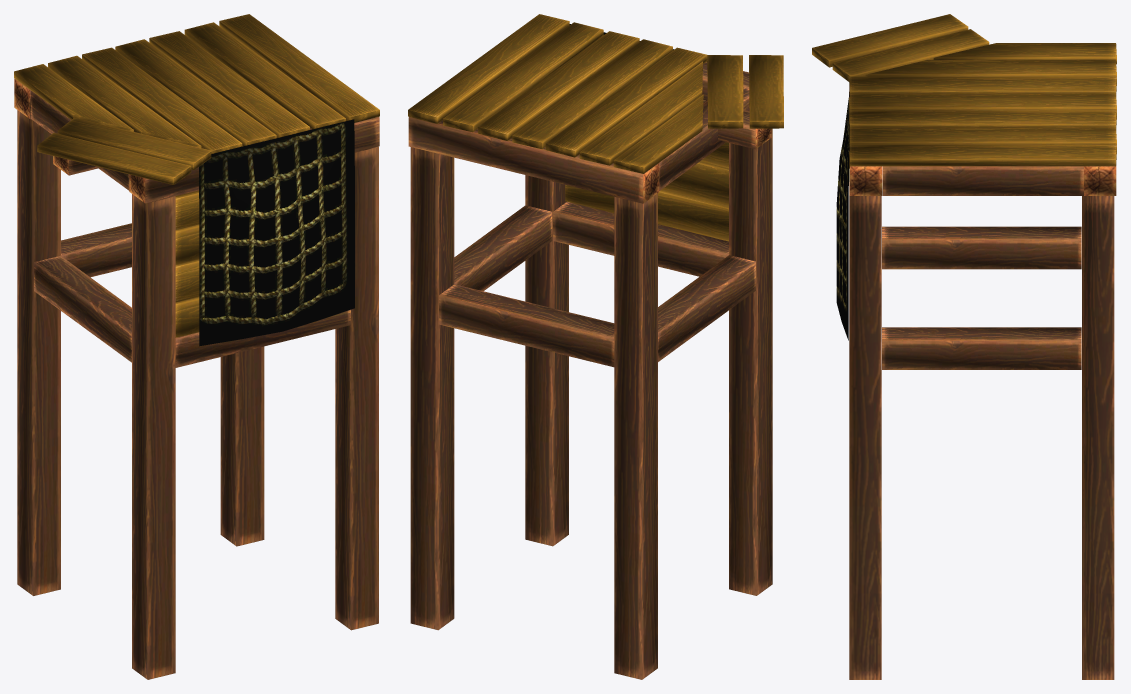
Rendered from INST_HTOWN_PLAYPLAT2.fbx.
3 renders of one model, left to right at view 1: azimuth 30°, elevation 25°; view 2: azimuth 150°, elevation 25°; view 3: azimuth 270°, elevation 25°, orthographic.
Visible parts, largest first — view 1: INST_HTOWN_PLAYPLAT2; view 2: INST_HTOWN_PLAYPLAT2; view 3: INST_HTOWN_PLAYPLAT2.
Part boxes in pixels (x1,y1,x2,y2): INST_HTOWN_PLAYPLAT2: (14, 14, 379, 679); INST_HTOWN_PLAYPLAT2: (408, 14, 783, 679); INST_HTOWN_PLAYPLAT2: (812, 14, 1116, 679).
Size of the model in its own units: 32738 by 54646 by 28975.
Materials: 3 (3 with a texture image).
